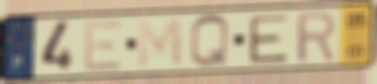4: (37, 18, 80, 76)
E: (246, 13, 291, 66), (82, 18, 124, 74)
M: (136, 16, 185, 71)
Q: (188, 13, 232, 71)
R: (294, 9, 338, 66)
